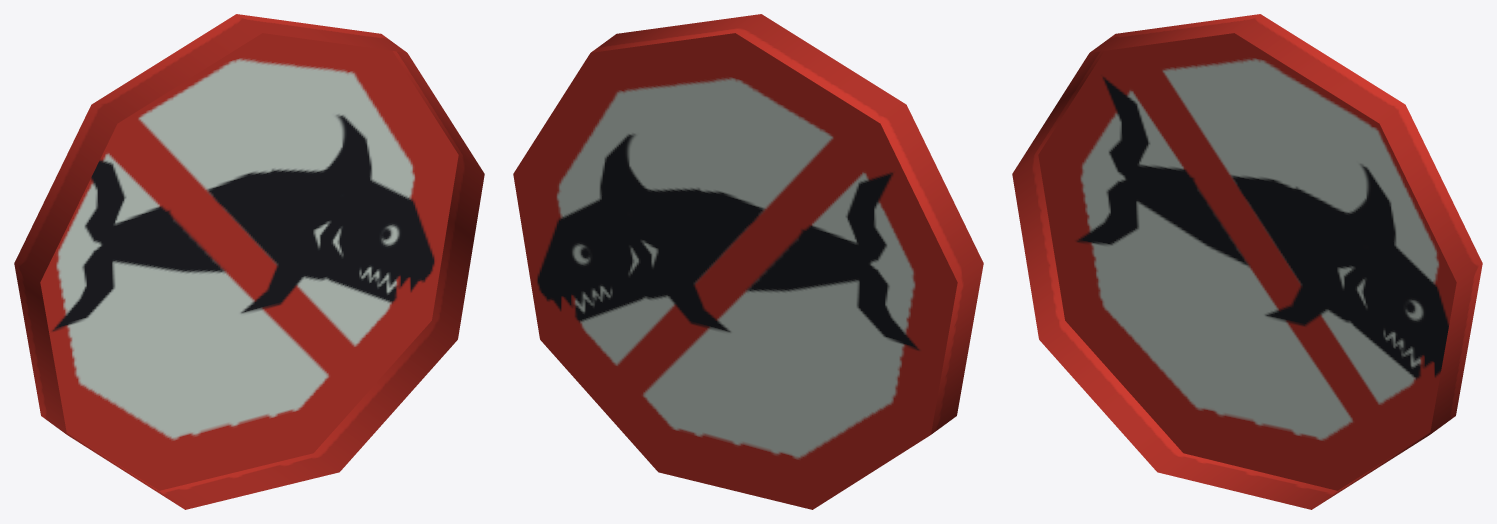
Rendered from Panneau_Rond.FBX.
3 renders of one model, left to right at view 1: azimuth 30°, elevation 25°; view 2: azimuth 150°, elevation 25°; view 3: azimuth 330°, elevation 25°, orthographic.
Parts seen in each view (by area): view 1: Cylinder008; view 2: Cylinder008; view 3: Cylinder008.
Boxes of the visible parts, <box> form: Cylinder008: <box>14,14,484,509</box>; Cylinder008: <box>513,14,983,509</box>; Cylinder008: <box>1012,14,1482,509</box>.
Bounding box in the file's own units: 197 × 194 × 20.
